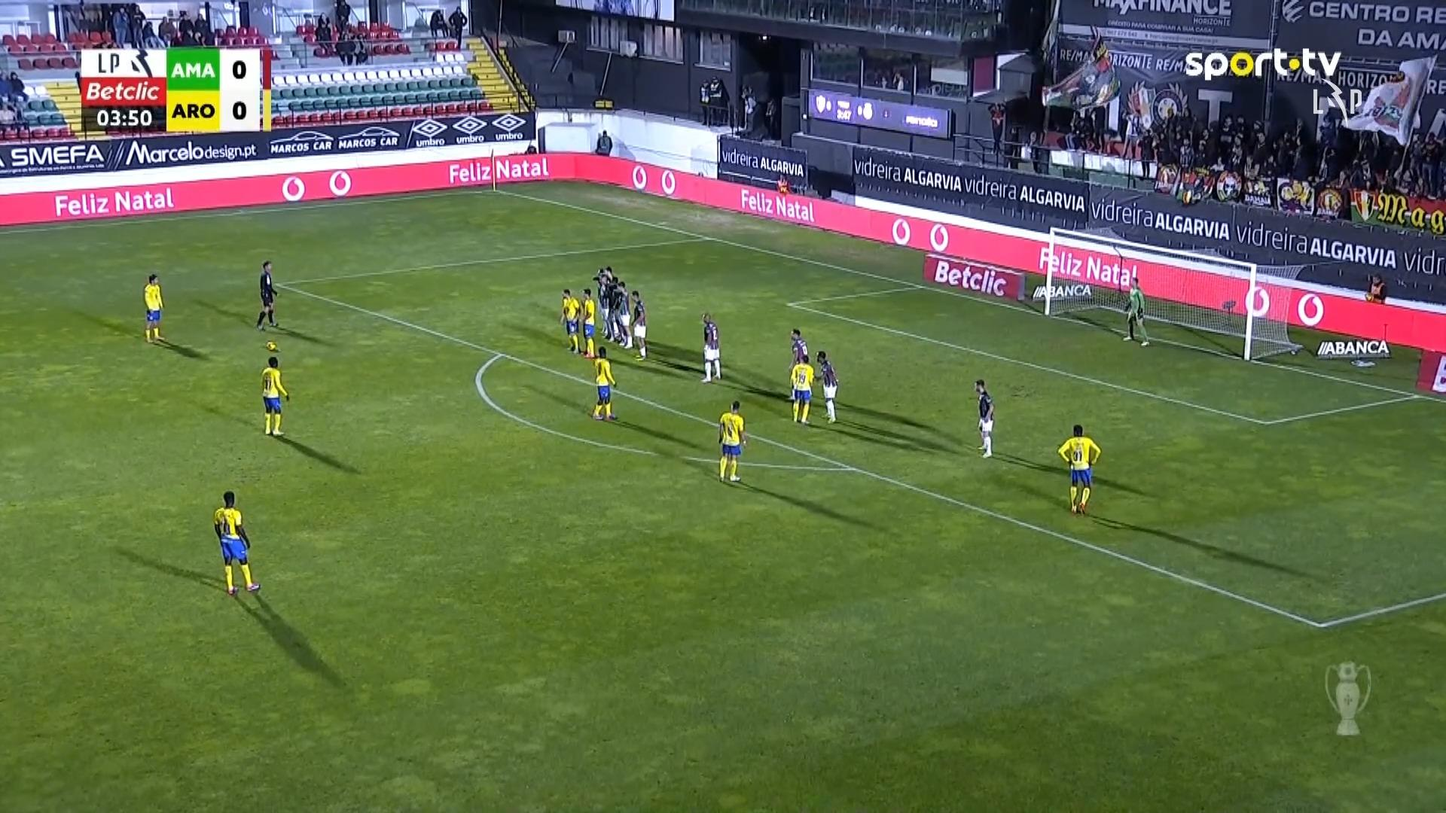ball: (266, 341, 278, 351)
goalkeeper: (1121, 277, 1150, 346)
player: (212, 489, 261, 596), (1057, 423, 1100, 515), (716, 400, 746, 482), (260, 355, 290, 436), (590, 346, 618, 420), (789, 354, 814, 424), (973, 379, 995, 458), (815, 349, 838, 422), (609, 279, 632, 348), (558, 288, 581, 353), (700, 311, 721, 382), (142, 273, 163, 342), (627, 290, 648, 359), (578, 288, 596, 358), (789, 327, 808, 368)
referee: (255, 259, 279, 330)
